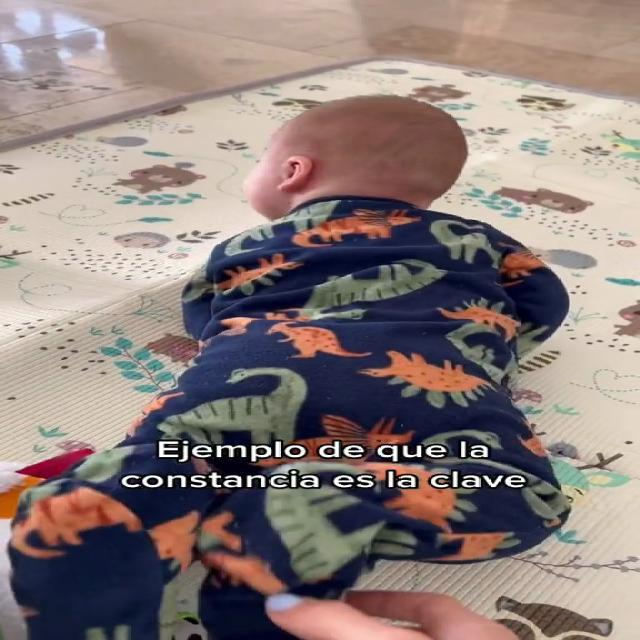baby: (0, 94, 596, 640)
